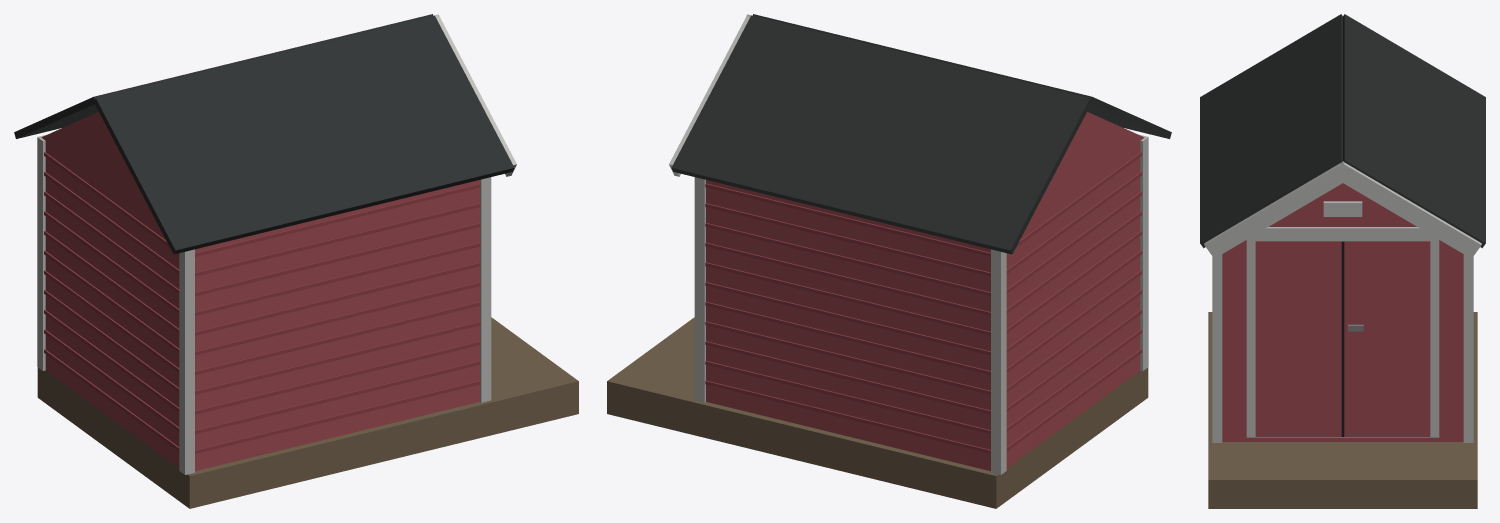
File: SM_Prop_coast_beachhut_2.glb
3 renders of one model, left to right at view 1: azimuth 30°, elevation 25°; view 2: azimuth 150°, elevation 25°; view 3: azimuth 270°, elevation 25°, orthographic. The views are drawn at different scales.
Parts seen in each view (by area): view 1: SM_Prop_coast_beachhut_2; view 2: SM_Prop_coast_beachhut_2; view 3: SM_Prop_coast_beachhut_2.
Part boxes in pixels (left/top/right/bottom): SM_Prop_coast_beachhut_2: left=14, top=14, right=578, bottom=508; SM_Prop_coast_beachhut_2: left=607, top=14, right=1171, bottom=508; SM_Prop_coast_beachhut_2: left=1200, top=14, right=1485, bottom=508.
Bounding box in the file's own units: 3.25 × 2.74 × 2.23.
